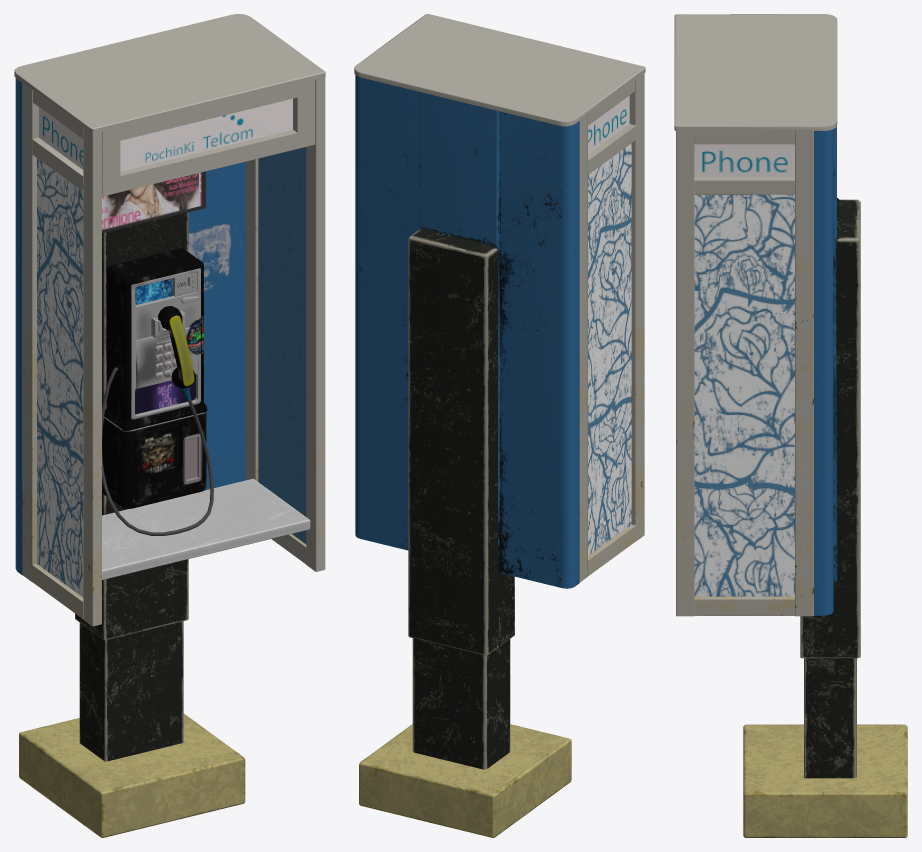
Rendered from phone-booth.gltf.
The picture shows the model from 3 angles, left to right: view 1: azimuth 30°, elevation 25°; view 2: azimuth 150°, elevation 25°; view 3: azimuth 270°, elevation 25°; orthographic projection. The views are drawn at different scales.
Parts seen in each view (by area): view 1: polySurface54; view 2: polySurface54; view 3: polySurface54.
Part boxes in pixels (box(x1,y1,x2,y2)): polySurface54: box(14, 14, 325, 837); polySurface54: box(354, 14, 645, 837); polySurface54: box(674, 14, 907, 837).
Size of the model in its own units: 0.657 by 2 by 0.5755.
1 material, 1 textured.
